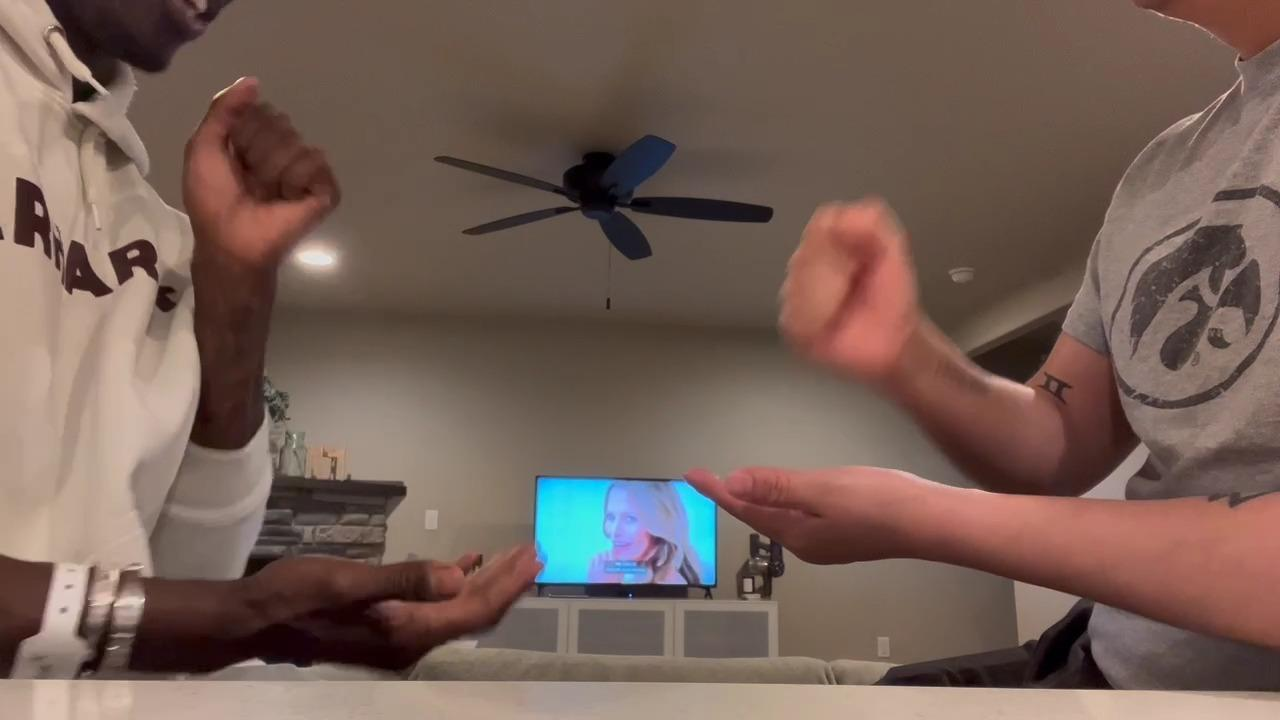Rock: (177, 75, 340, 270), (777, 193, 925, 387)
